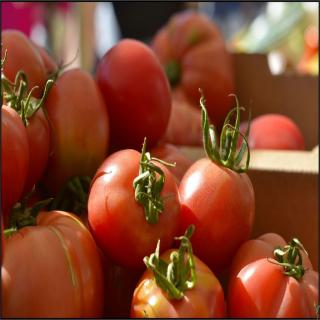tomato: (177, 84, 256, 274), (87, 138, 182, 271), (45, 47, 110, 209), (131, 228, 224, 319), (97, 38, 171, 150), (228, 232, 317, 316), (2, 71, 58, 202), (0, 74, 29, 215), (1, 29, 47, 98)
